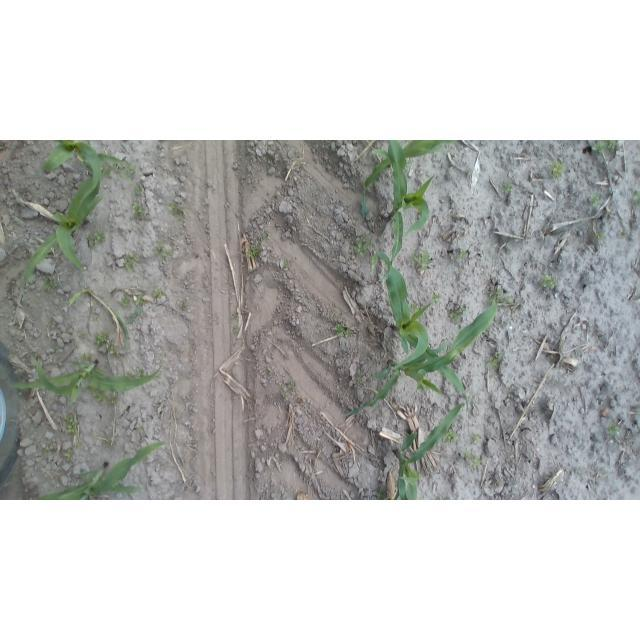Maize: (342, 290, 501, 425), (366, 248, 468, 405), (22, 155, 115, 296), (367, 141, 442, 266), (360, 140, 461, 228), (5, 352, 168, 406), (35, 439, 164, 500), (389, 401, 465, 499), (63, 284, 129, 349), (42, 140, 131, 178)
Weeds: (411, 250, 434, 273), (353, 234, 372, 259), (459, 449, 483, 468), (91, 389, 119, 405), (591, 141, 620, 156), (488, 288, 513, 305), (154, 242, 175, 261), (87, 230, 106, 249), (62, 414, 79, 435), (538, 274, 558, 291), (246, 242, 263, 261), (122, 252, 138, 272), (42, 274, 59, 292), (550, 161, 567, 179), (449, 307, 468, 323), (334, 322, 353, 338), (94, 330, 111, 347), (168, 202, 185, 219), (487, 351, 502, 370), (281, 378, 295, 398), (604, 422, 621, 438), (131, 200, 145, 219), (442, 429, 459, 443), (588, 191, 602, 208), (127, 310, 142, 324), (375, 487, 389, 500), (430, 291, 442, 305), (153, 287, 166, 299), (500, 182, 512, 194), (134, 294, 144, 308), (596, 229, 607, 241), (458, 248, 469, 260), (118, 297, 131, 307), (469, 434, 480, 445), (260, 230, 270, 242), (135, 184, 145, 196), (66, 450, 75, 463), (78, 354, 91, 363), (128, 164, 138, 175), (136, 367, 145, 379), (282, 257, 290, 270), (179, 302, 190, 311), (52, 345, 63, 354), (631, 192, 638, 206), (411, 303, 421, 312), (104, 438, 114, 447), (232, 325, 240, 336), (356, 372, 364, 383), (266, 366, 275, 375), (365, 331, 374, 340), (230, 310, 238, 320), (437, 495, 453, 500), (43, 444, 53, 452), (618, 230, 626, 239), (80, 332, 89, 340), (75, 440, 83, 449), (92, 314, 100, 322), (162, 460, 170, 468), (406, 163, 413, 172), (135, 422, 142, 430), (552, 471, 559, 479), (509, 387, 517, 394), (111, 346, 117, 355), (125, 371, 133, 377)
